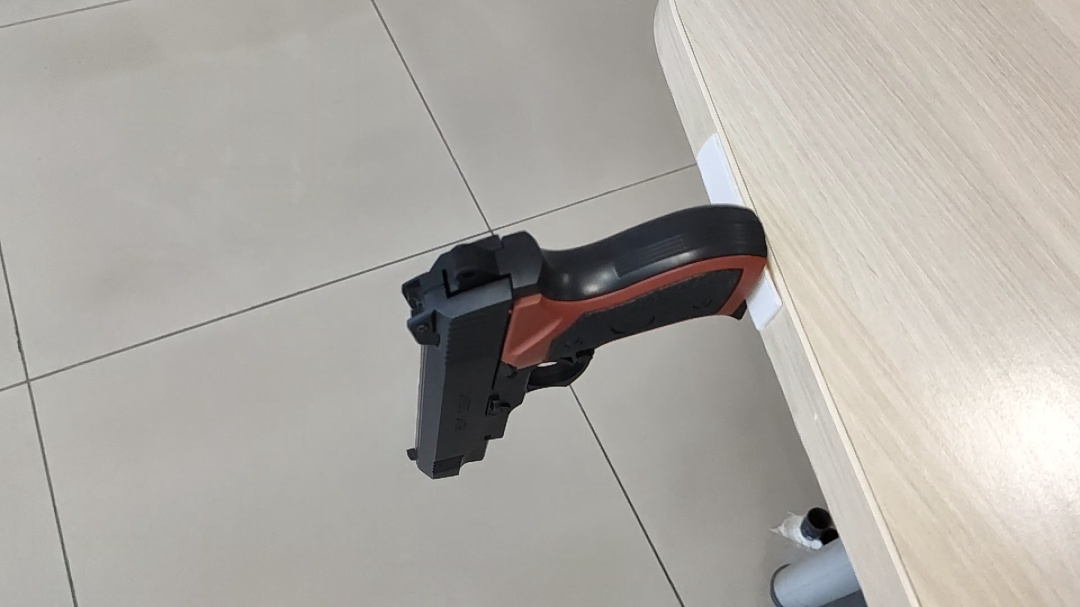gun: (397, 201, 774, 483)
